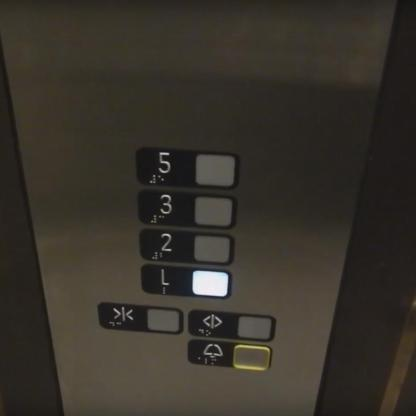2: (136, 225, 236, 267)
3: (136, 188, 236, 231)
5: (134, 145, 240, 190)
L: (138, 260, 233, 300)
alarm: (185, 337, 273, 374)
close: (97, 299, 184, 335)
open: (186, 307, 276, 342)
